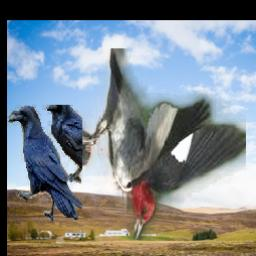Crow: (8, 105, 83, 222)
Woodpecker: (73, 48, 247, 240)
